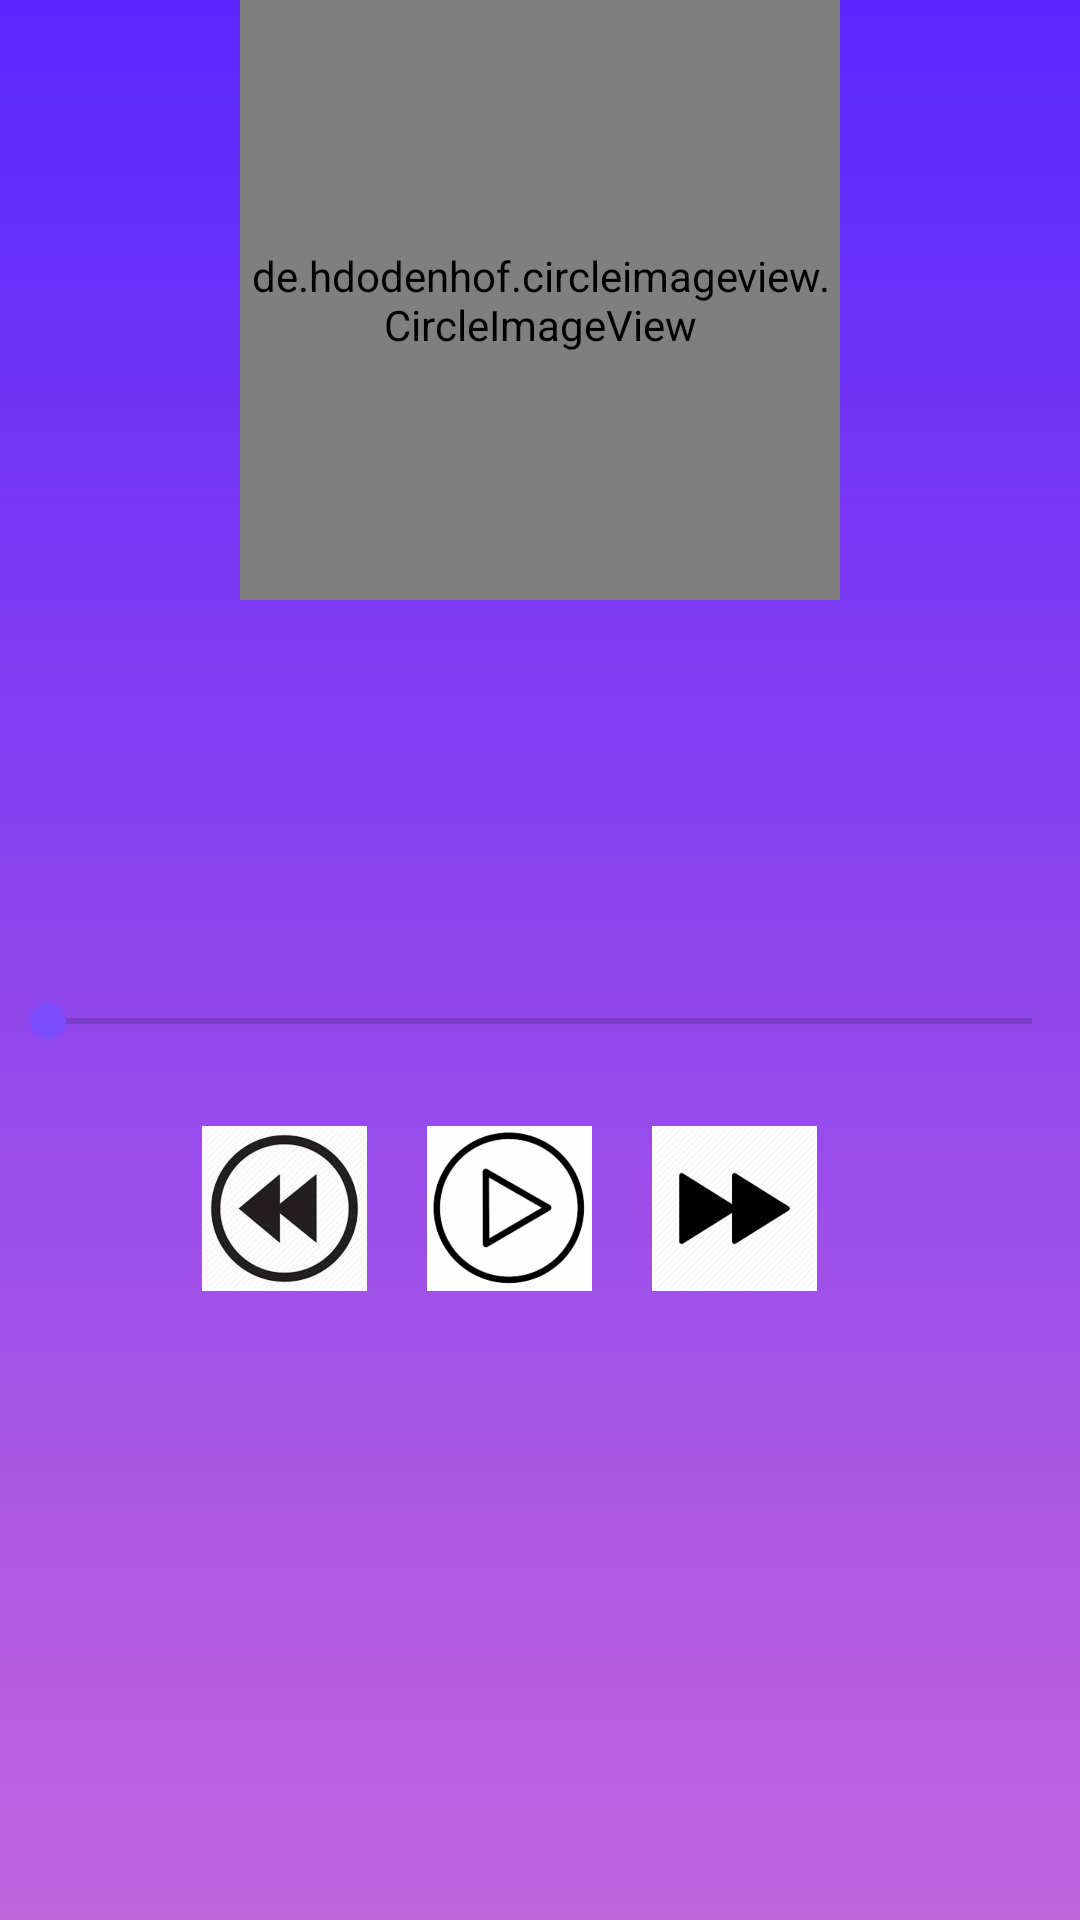

Named icons in this screenshot (1080*1920) and their bounding boxes, (x1,y1,x2,y2):
next: (652,1126,817,1291)
play icon: (427,1126,592,1291)
previous icon: (202,1126,367,1291)
